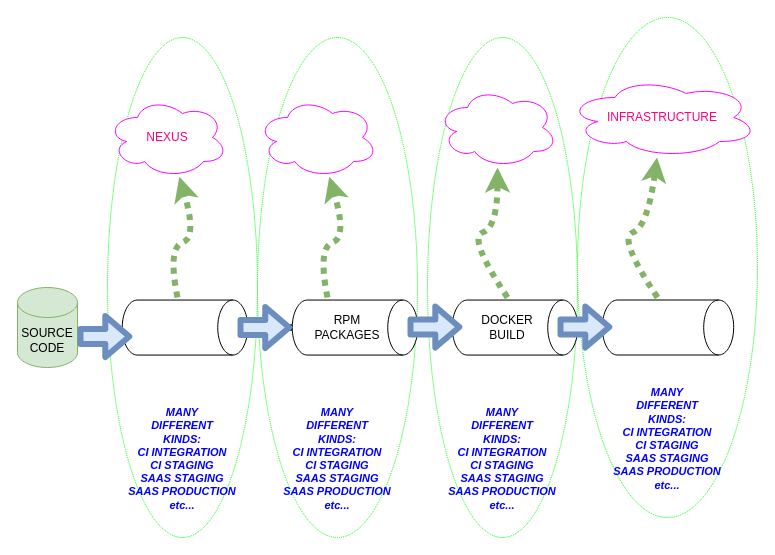
Image size: 775x555. Some labels were removed from this diagram. The shapes that lost their labels are listed below. From the top down, each one's centre as x and y in pixels, then its label:
pixel 317 137: RPM REPO
pixel 497 127: DOCKER REGISTRY
pixel 184 327: MAVEN BUILD
pixel 667 327: DEPLOYMENT
